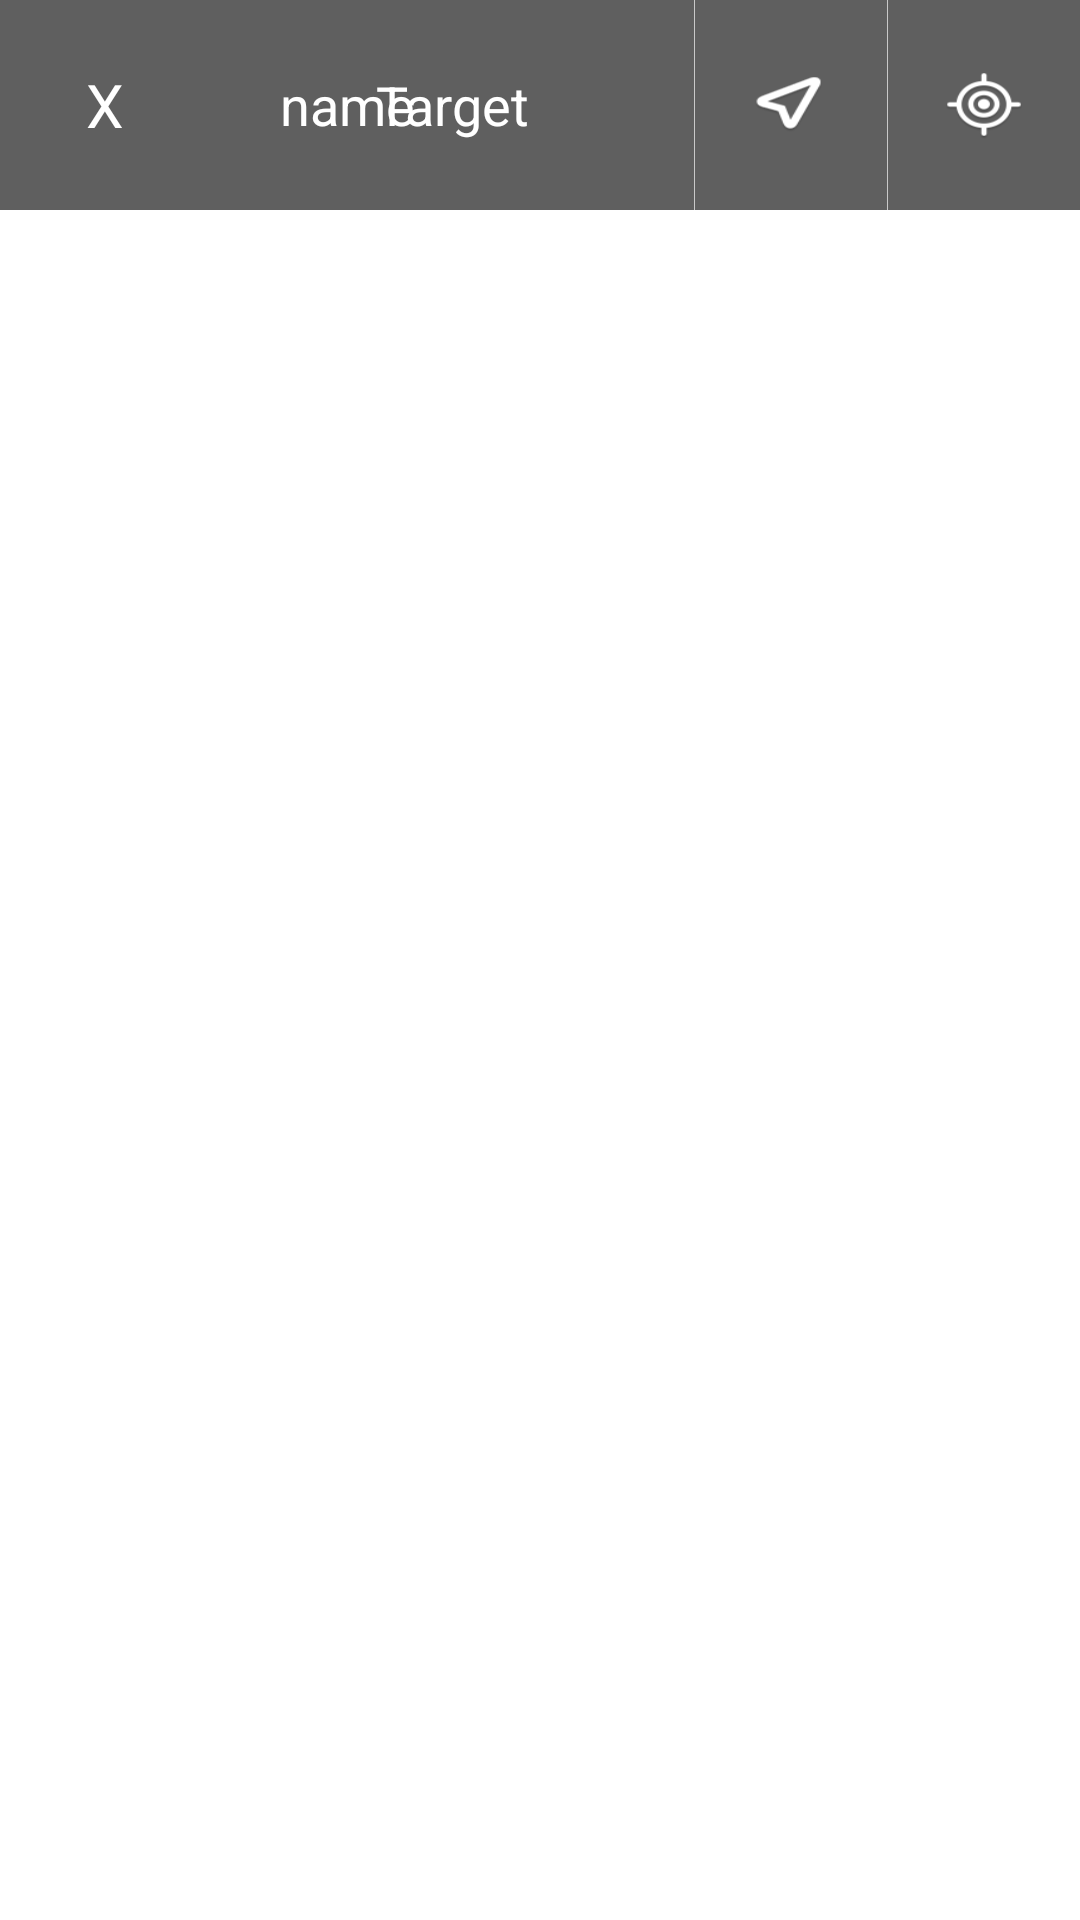

Icon bounding boxes for this 1080×1920 phone screenshot, format BBox(x1, y1, x2, y2):
navigation: BBox(756, 77, 821, 129)
relocate: BBox(947, 73, 1021, 136)
